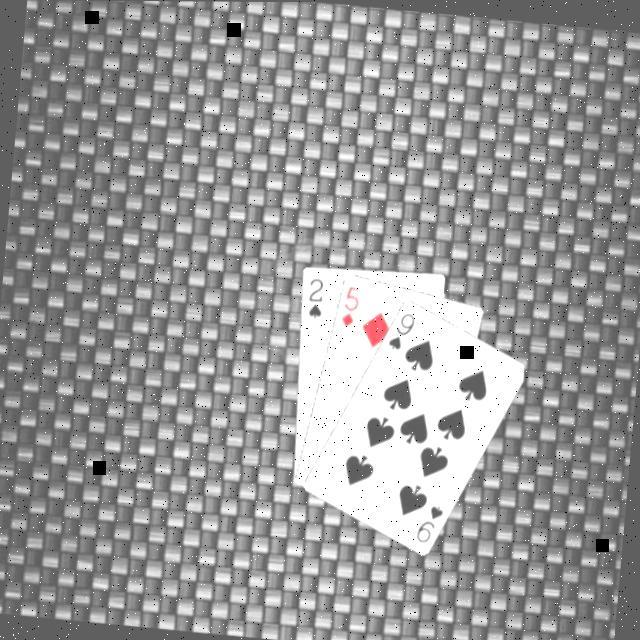2S: (301, 274, 326, 322)
5D: (335, 281, 362, 330)
9S: (411, 499, 446, 547), (382, 308, 417, 354)
